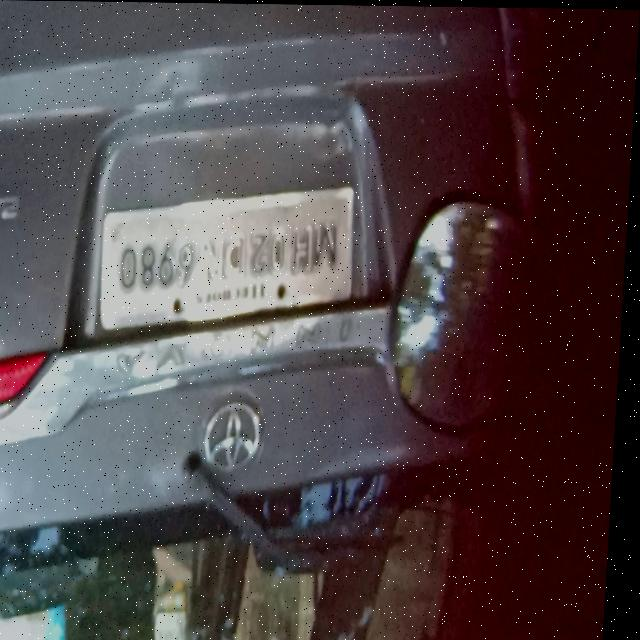plate: (102, 167, 362, 332)
